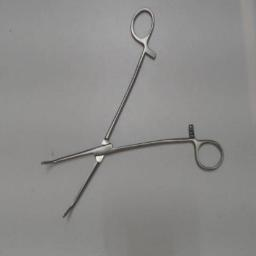Lahey Forceps: (36, 2, 228, 226)
